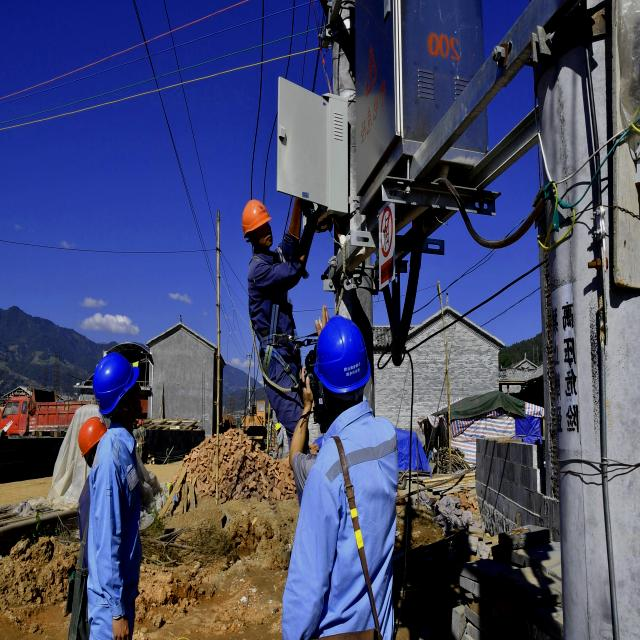hand_noglove: (106, 614, 129, 640)
head_helmet: (311, 316, 371, 392), (96, 352, 131, 409), (77, 413, 106, 458), (240, 192, 270, 235)
person: (286, 333, 404, 640), (240, 181, 302, 436), (98, 347, 144, 633), (63, 409, 109, 637)
